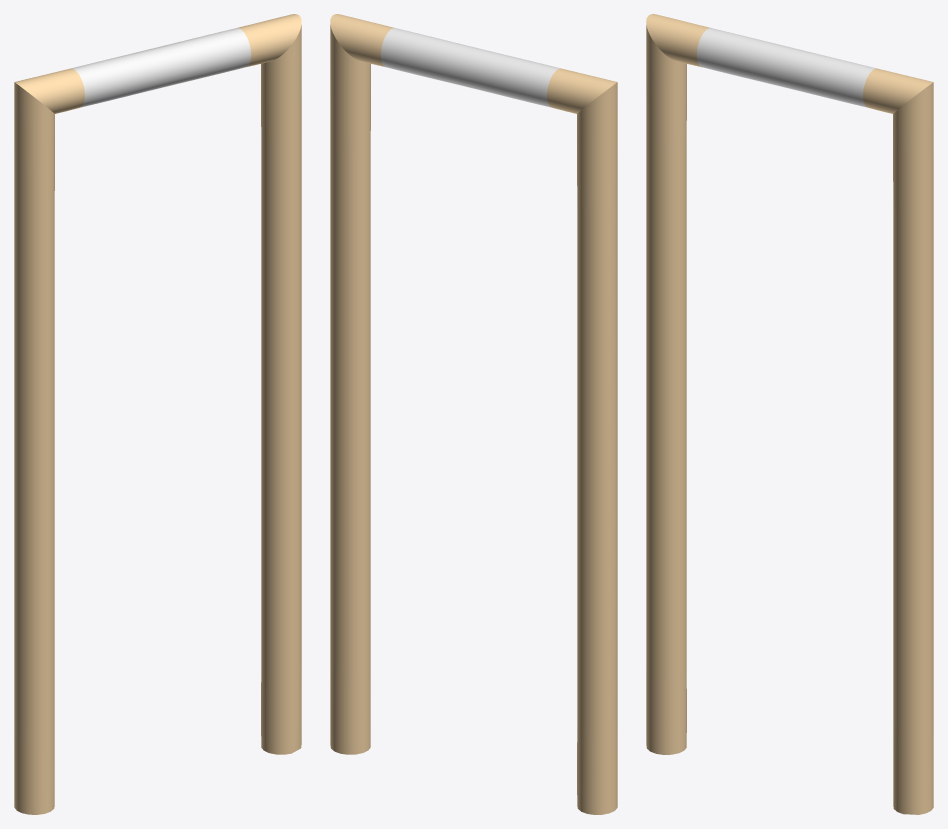
The model's file is wicket.fbx.
3 views of the same model, side by side, from view 1: azimuth 30°, elevation 25°; view 2: azimuth 150°, elevation 25°; view 3: azimuth 330°, elevation 25° (orthographic).
Visible parts, largest first — view 1: Wicket; view 2: Wicket; view 3: Wicket.
Part boxes in pixels (left/top/right/bottom): Wicket: left=14, top=14, right=301, bottom=814; Wicket: left=330, top=14, right=617, bottom=814; Wicket: left=646, top=14, right=933, bottom=814.
Bounding box in the file's own units: 12.7 × 1.59 × 31.27.
